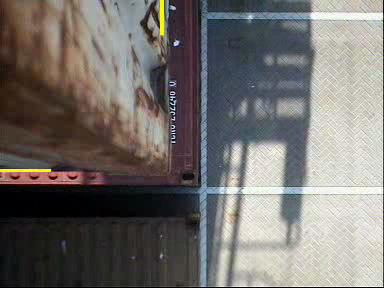groundmarker_2: (197, 152, 257, 233)
